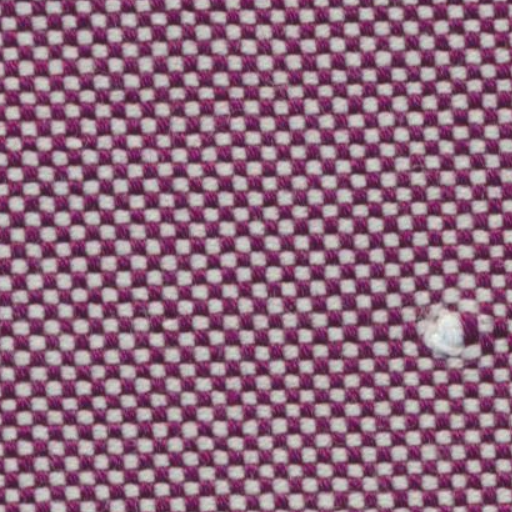MianQiu: (413, 298, 476, 367)
